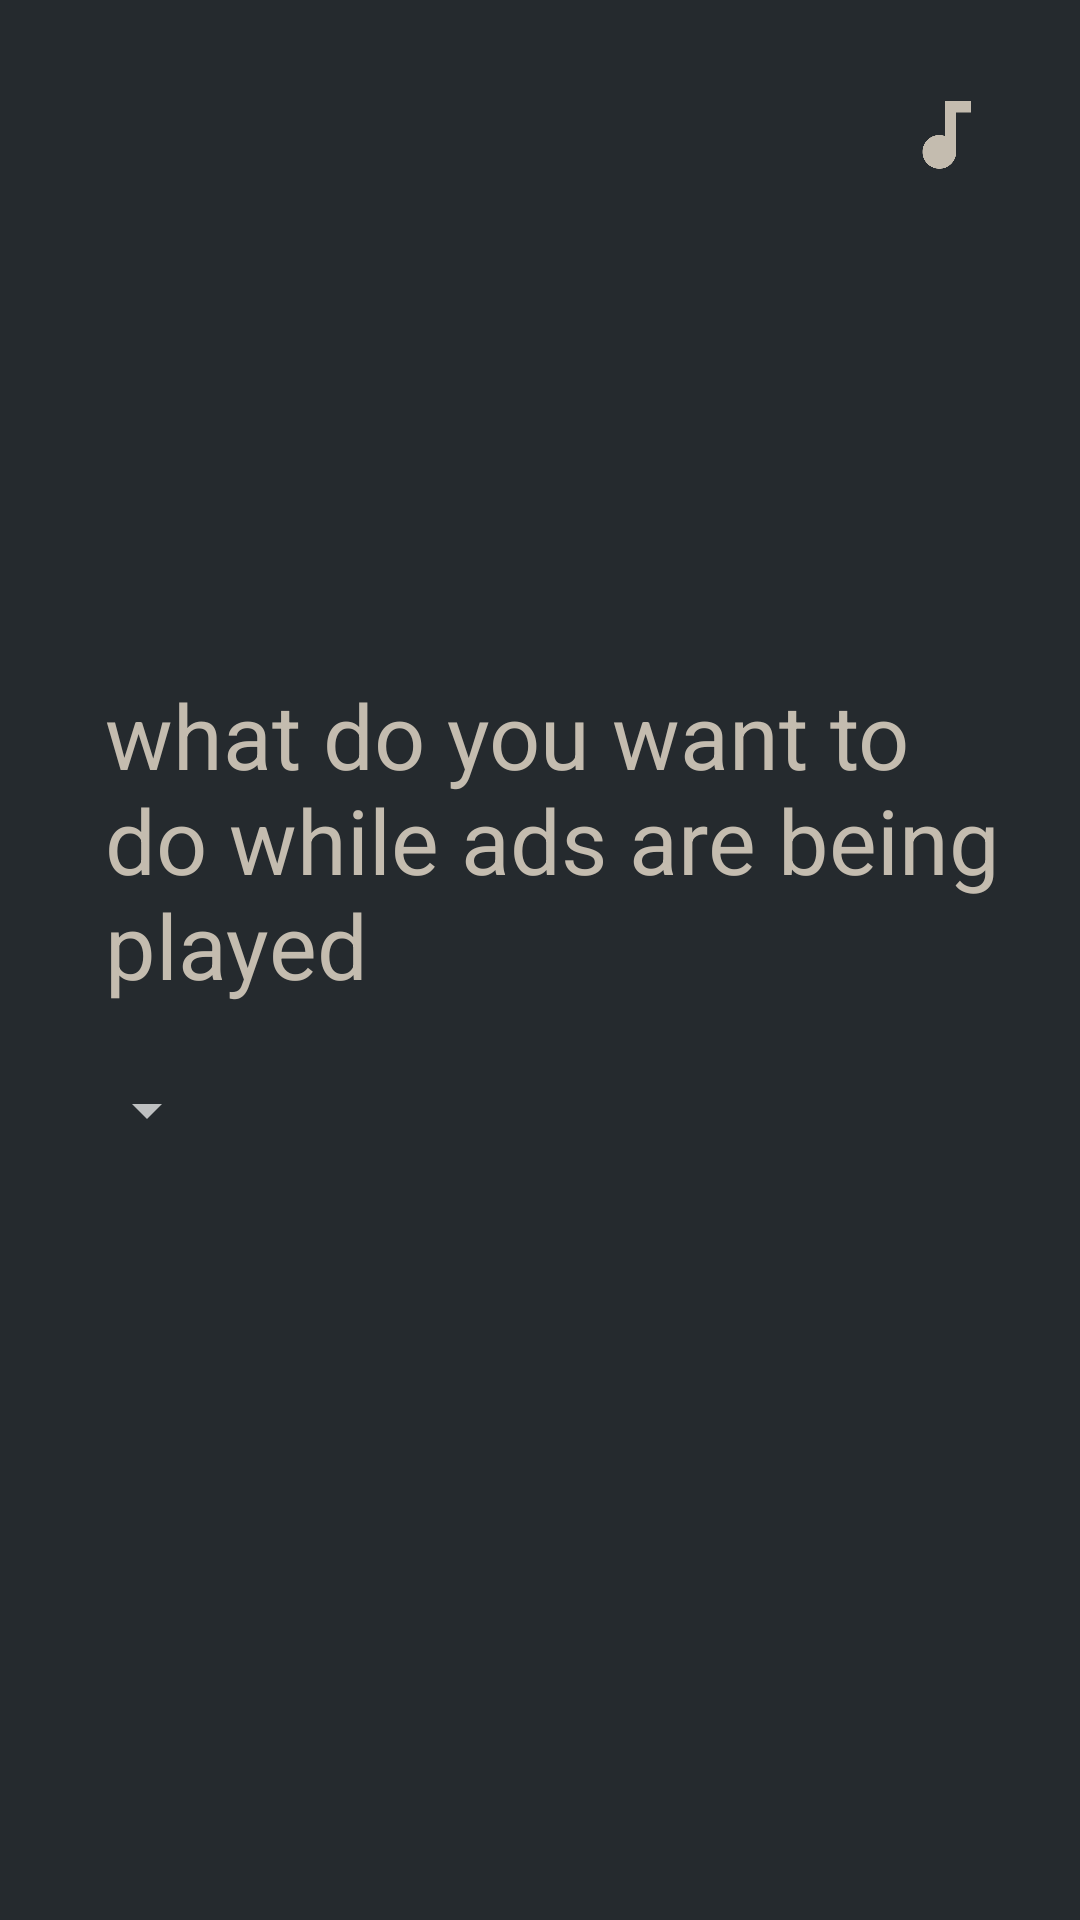

Locate icon controls on the screen. Image size 1080x1920, boxes as {"left": x1, "top": y1, "right": x2, "bottom": y2}.
audio: {"left": 922, "top": 101, "right": 971, "bottom": 169}
